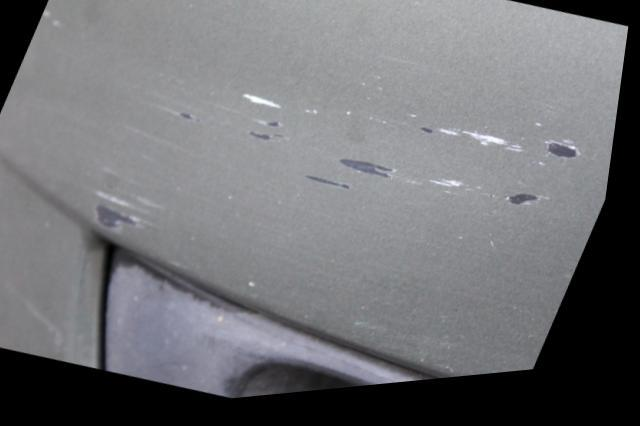scratch: (99, 73, 591, 240)
